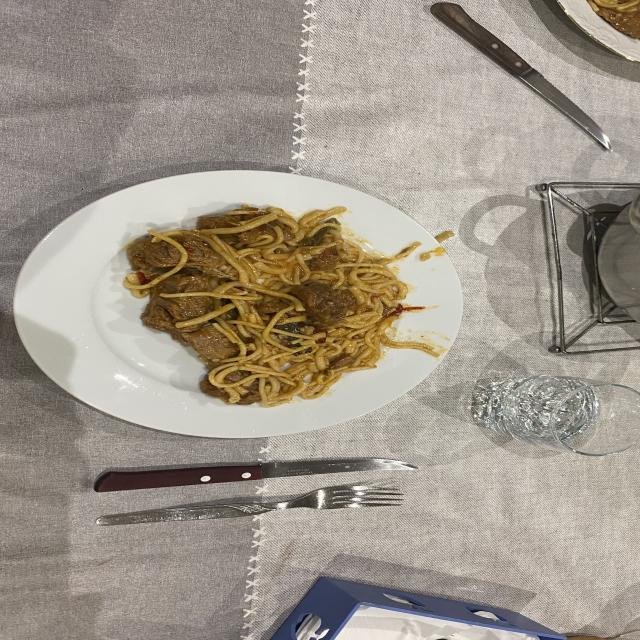fork: (97, 484, 403, 525)
knife: (94, 458, 415, 492)
plate: (14, 170, 462, 437)
spaghetti: (199, 207, 420, 407)
stewed veal: (134, 207, 291, 367), (291, 280, 352, 327), (127, 238, 180, 285)
water cup: (470, 375, 640, 456)
